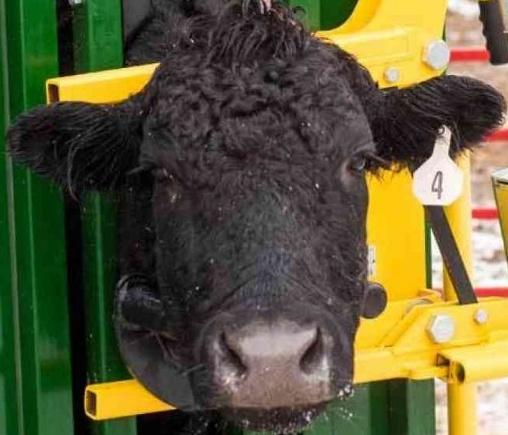muzzles: (188, 313, 358, 429)
